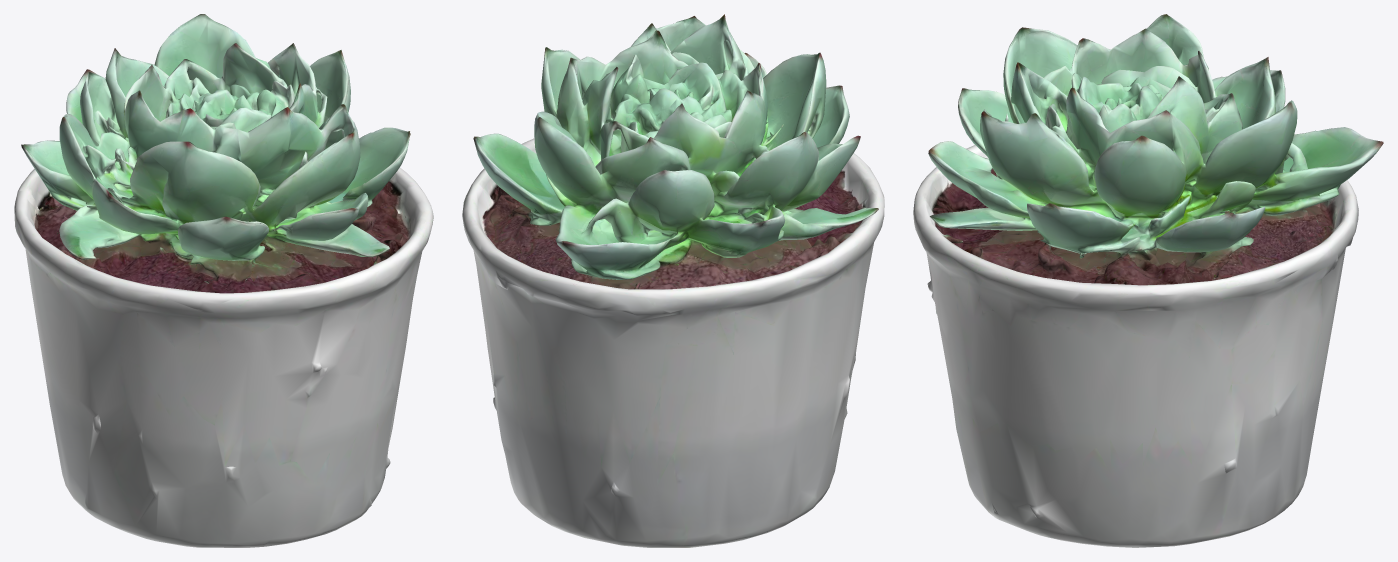
File: succulent.glb
3 renders of one model, left to right at view 1: azimuth 30°, elevation 25°; view 2: azimuth 150°, elevation 25°; view 3: azimuth 270°, elevation 25°, orthographic.
Size of the model in its own units: 1.2 by 1.35 by 1.36.
Materials: 1 (1 with a texture image).
